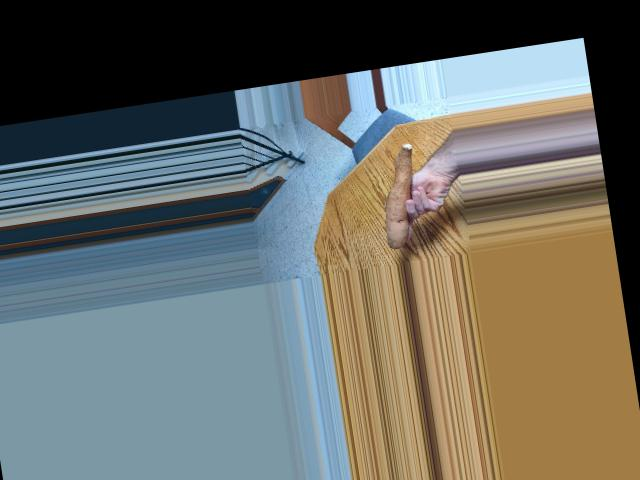sweet_potato: (369, 141, 431, 249)
